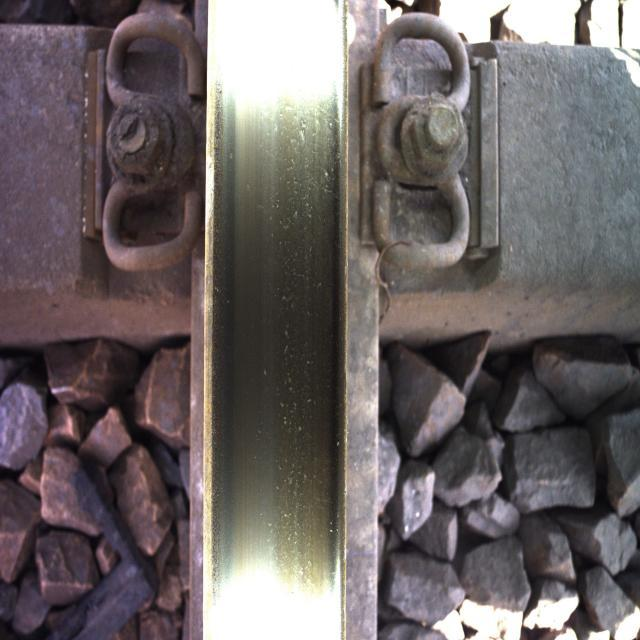normal: (211, 52, 325, 578)
